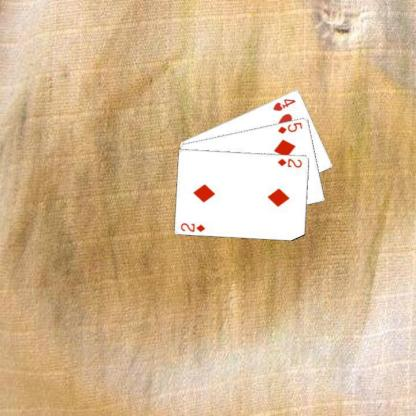2D: (178, 220, 206, 233), (276, 156, 303, 169)
4H: (270, 96, 297, 112)
5D: (276, 120, 303, 134)
